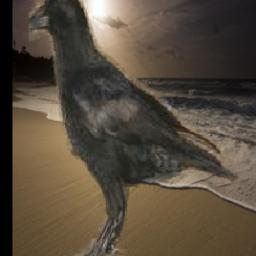Crow: (29, 0, 239, 256)
